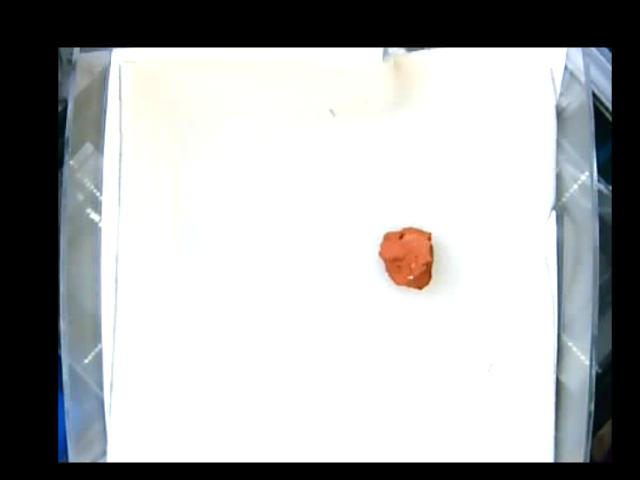Brisk: (379, 226, 435, 292)
